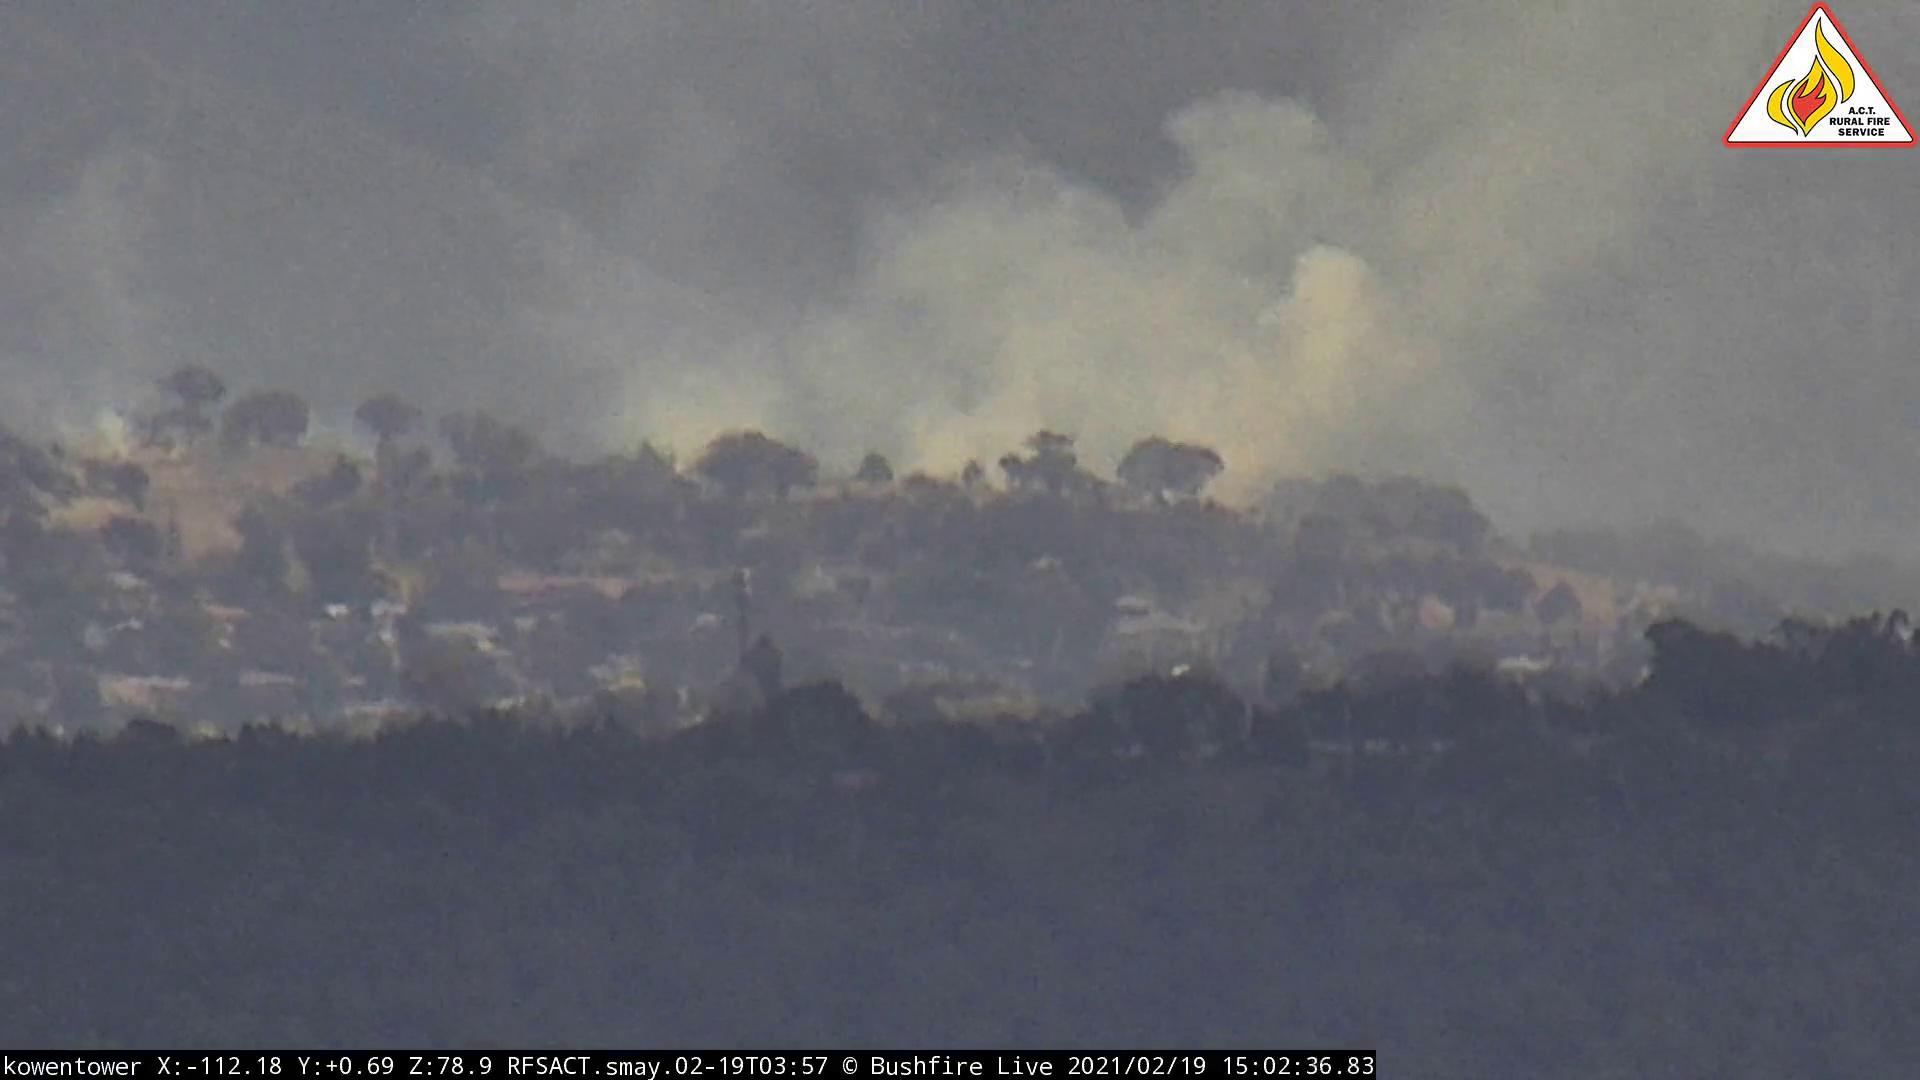Smoke: (562, 40, 1708, 500)
